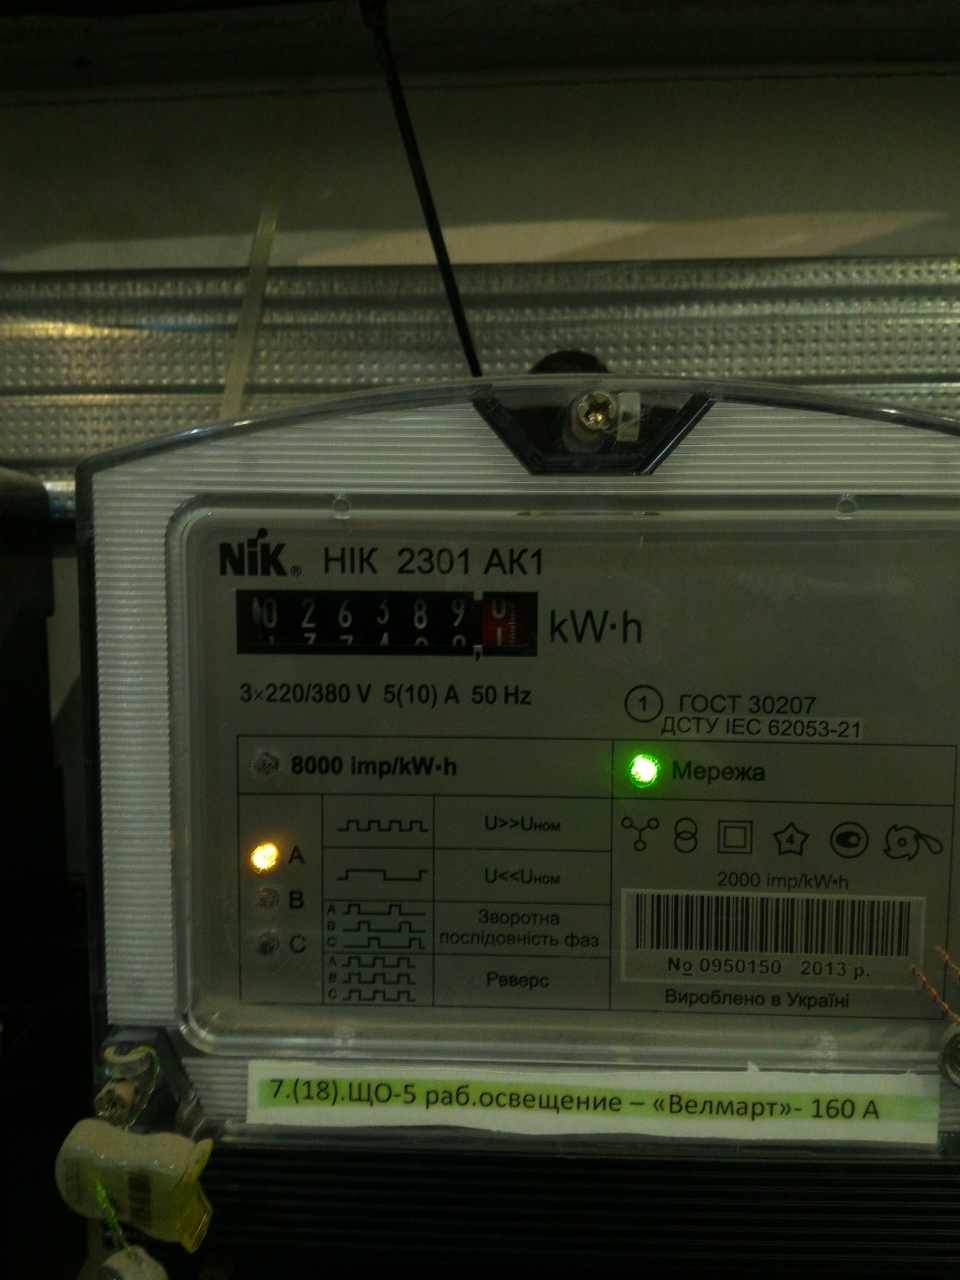0: (258, 595, 281, 631), (490, 596, 509, 621)
1: (492, 625, 506, 648)
2: (298, 597, 318, 630)
3: (374, 595, 392, 626)
6: (334, 596, 355, 630)
8: (410, 596, 431, 631)
9: (449, 597, 467, 629)
screen: (222, 574, 554, 668)
